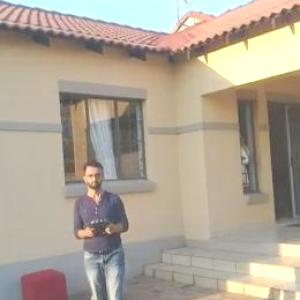follow: (67, 156, 138, 299)
